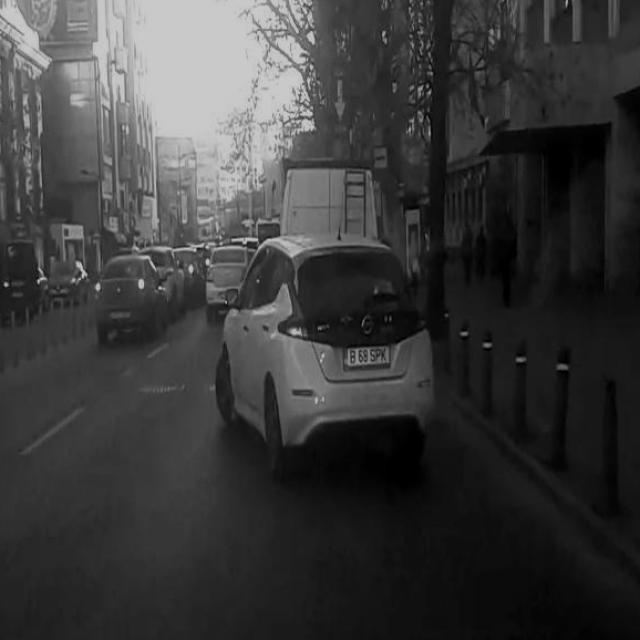licenseplate: (341, 341, 393, 372)
